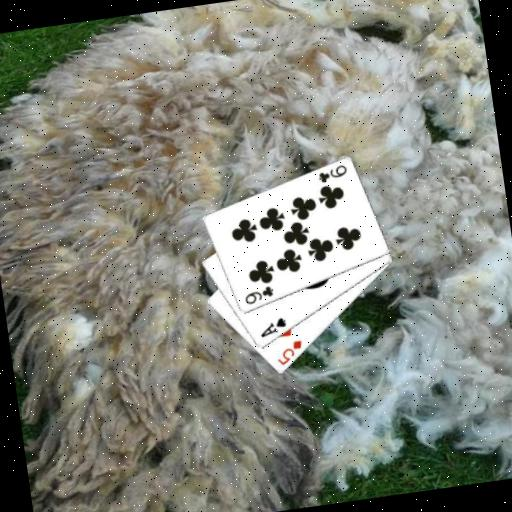5D: (272, 338, 307, 369)
9C: (241, 283, 277, 308), (314, 162, 350, 186)
AS: (256, 314, 290, 340)
